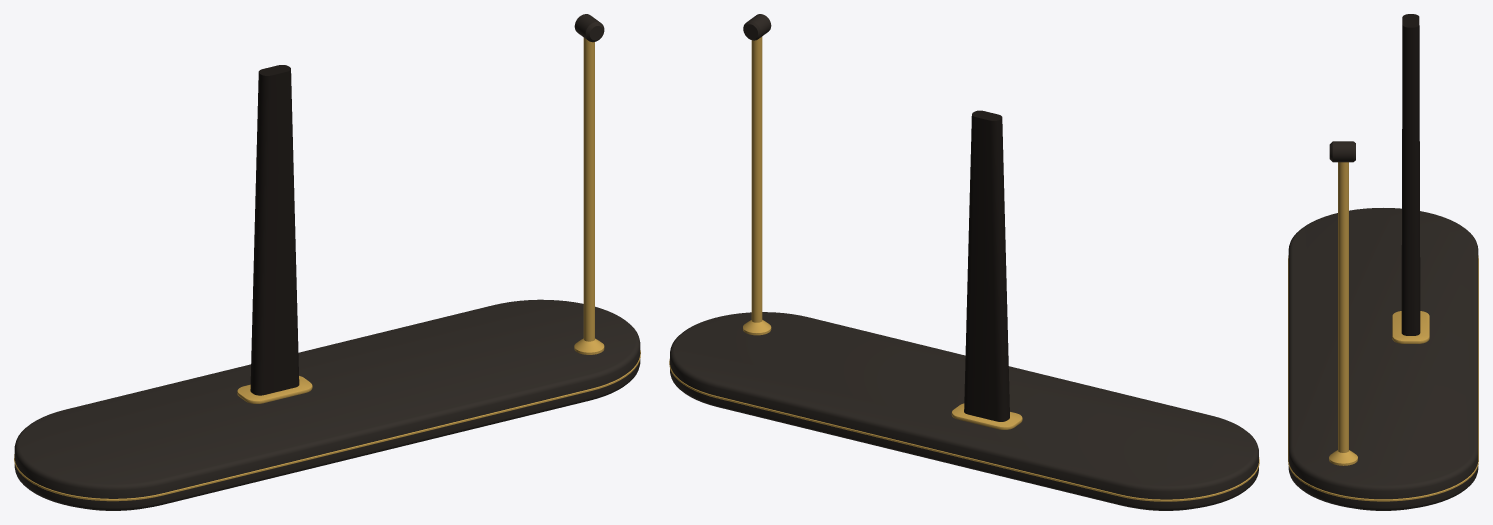
Rendered from rueda-pedestal.glb.
3 views of the same model, side by side, from view 1: azimuth 30°, elevation 25°; view 2: azimuth 150°, elevation 25°; view 3: azimuth 270°, elevation 25° (orthographic). The views are drawn at different scales.
Visible parts, largest first — view 1: Pedestal; view 2: Pedestal; view 3: Pedestal.
Boxes of the visible parts, bbox=[...] form: Pedestal: bbox=[14, 14, 640, 510]; Pedestal: bbox=[669, 14, 1259, 510]; Pedestal: bbox=[1288, 14, 1478, 510].
Size of the model in its own units: 2.66 by 1.54 by 0.764.
